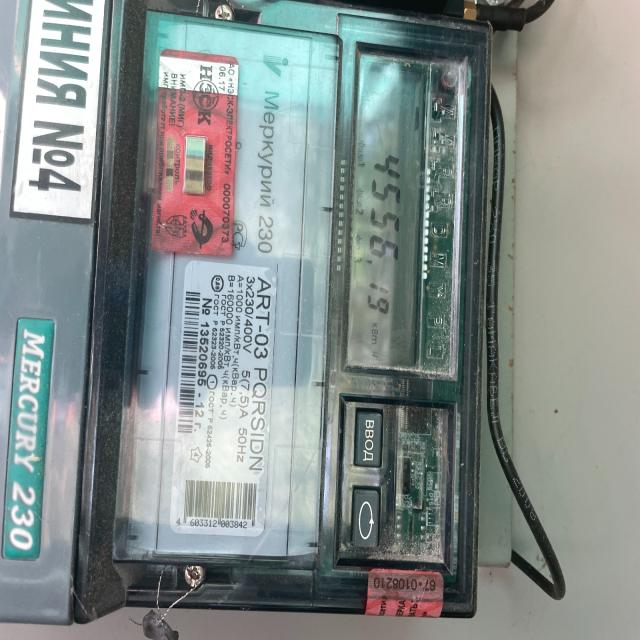Display: (339, 37, 432, 370)
meter_number: (173, 281, 208, 464)
seal_imp: (153, 52, 240, 254)
seal_mercury: (0, 0, 485, 624)
